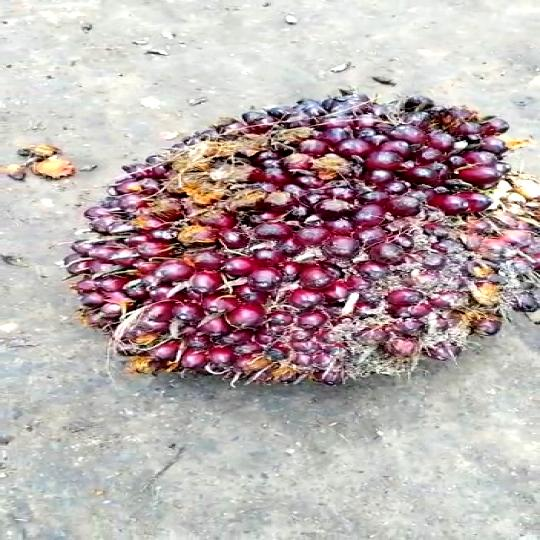kurang masak: (66, 84, 540, 391)
